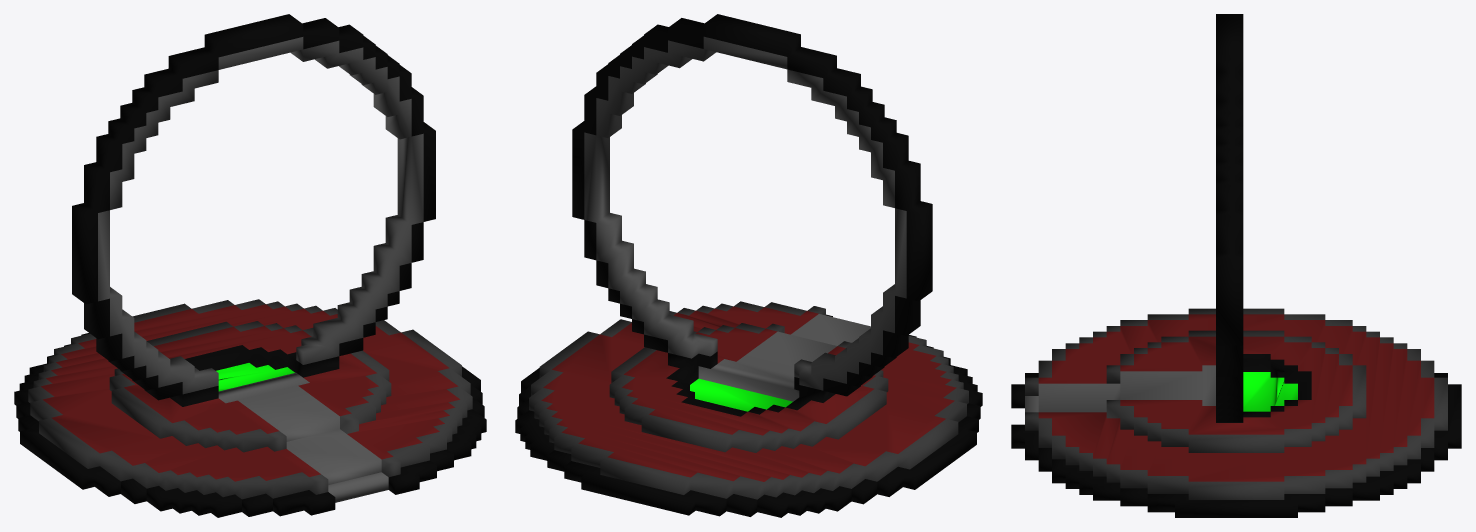
Rendered from ZomnsPortalLowPoly.fbx.
The picture shows the model from 3 angles, left to right: view 1: azimuth 30°, elevation 25°; view 2: azimuth 150°, elevation 25°; view 3: azimuth 270°, elevation 25°; orthographic projection. The views are drawn at different scales.
Parts seen in each view (by area): view 1: ZomnsPortalLowPoly; view 2: ZomnsPortalLowPoly; view 3: ZomnsPortalLowPoly.
Boxes of the visible parts, x1,y1,x2,y2 form: ZomnsPortalLowPoly: (14,14,486,517); ZomnsPortalLowPoly: (515,14,982,517); ZomnsPortalLowPoly: (1011,14,1461,517).
Bounding box in the file's own units: 3300 × 3100 × 3300.
